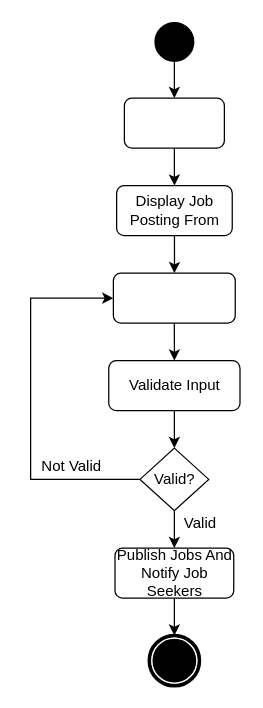
This 263x708 diagram has some shape labels left out. Each missing label, with the centre of its shape:
Enter Job Details: (173,297)
Navigate to "Post a Job": (173,122)
